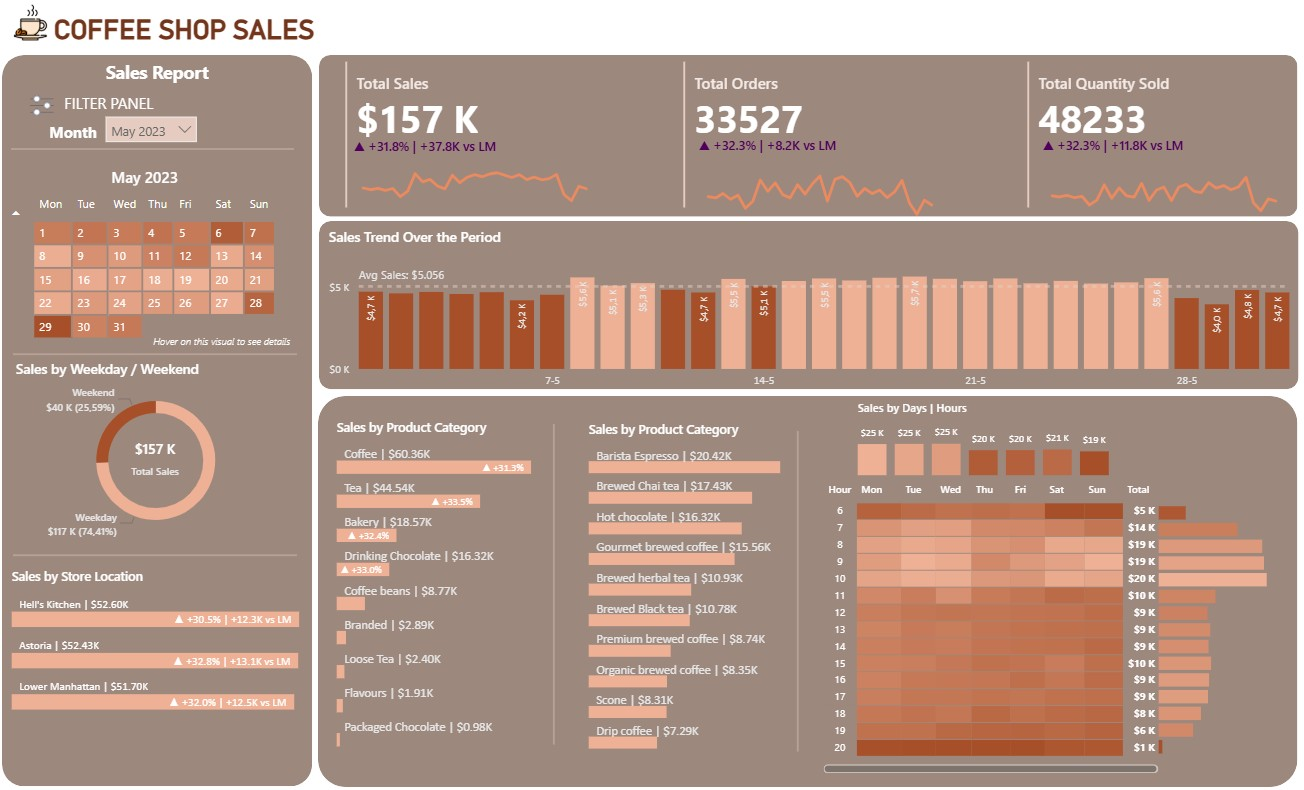

The dashboard page shown, as its layout file describes it:
{"tool":"powerbi","page":{"name":"Page 1","canvas":[1400,850],"ordinal":0},"visuals":[{"type":"shape","box":[345,421,1042,416],"z":0},{"type":"shape","box":[9,59,330,778],"z":1000},{"type":"shape","box":[346,59,1041,172],"z":2000},{"type":"textbox","box":[52.9,9.5,298.1,61.3],"z":3000},{"type":"cardVisual","title":"Total Sales","fields":{"Data":["Transactions.Total Sales"]},"box":[345.7,60.2,300,165],"z":3000,"group":"g1"},{"type":"cardVisual","title":"Total Sales","fields":{"Data":["Transactions.Total Orders"]},"box":[704.8,61,299.6,165.3],"z":3000,"group":"g2"},{"type":"cardVisual","title":"Total Sales","fields":{"Data":["Transactions.Total Quantity Sold"]},"box":[1071,61,299.6,165.3],"z":3000,"group":"g3"},{"type":"slicer","fields":{"Values":["Date Table.Month Year"]},"box":[113.3,118.9,106.7,47.8],"z":4000},{"type":"group","id":"g1","title":"Group 1","box":[345.7,60.2,299.9,175.1],"z":5000},{"type":"lineChart","fields":{"Y":["Transactions.Total Sales"],"Category":["Date Table.Date.Variation.Date Hierarchy.Year"]},"box":[377.8,145.9,267.5,89.5],"z":5000,"group":"g1"},{"type":"lineChart","fields":{"Category":["Date Table.Date.Variation.Date Hierarchy.Year"],"Y":["Transactions.Total Orders"]},"box":[743.8,146,268,89],"z":5000,"group":"g2"},{"type":"lineChart","fields":{"Category":["Date Table.Date.Variation.Date Hierarchy.Year"],"Y":["Transactions.Total Quantity Sold"]},"box":[1110,146,268,89],"z":5000,"group":"g3"},{"type":"group","id":"g2","title":"Group 1","box":[704.8,61,307,174],"z":6000},{"type":"group","id":"g3","title":"Group 1","box":[1071,61,307,174],"z":7000},{"type":"pivotTable","fields":{"Rows":["Date Table.Week Number"],"Columns":["Date Table.Day Name"],"Values":["Min(Date Table.Day Number)"]},"box":[14,200,316,190],"z":8000},{"type":"card","fields":{"Values":["Min(Date Table.Month Year)"]},"box":[108.6,175,103.6,25.5],"z":9000},{"type":"card","fields":{"Values":["Transactions.Foot Note"]},"box":[148.6,348.6,186.4,34.5],"z":10000},{"type":"shape","box":[20,364,302,26],"z":11000},{"type":"shape","box":[17.8,145.6,301.1,25.6],"z":12000},{"type":"donutChart","title":"Sales by Weekday / Weekend","fields":{"Category":["Date Table.Weekday / Weekend"],"Y":["Transactions.Total Sales"]},"box":[18,382,308,196],"z":13000},{"type":"card","fields":{"Values":["Transactions.Total Sales"]},"box":[95.1,448.3,153.3,78.2],"z":14000},{"type":"shape","box":[20,578,302,26],"z":15000},{"type":"clusteredBarChart","title":"Sales by Store Location","fields":{"Category":["Transactions.store_location"],"Y":["Transactions.Placeholder","Transactions.Total Sales"]},"box":[14,604,346,158],"z":16000},{"type":"shape","box":[346,235,1042,179],"z":17000},{"type":"columnChart","title":"Sales Trend Over the Period","fields":{"Category":["Transactions.transaction_date"],"Y":["Transactions.Total Sales"]},"box":[351,242,1032,179],"z":18000},{"type":"clusteredBarChart","title":"Sales by Product Category","fields":{"Y":["Transactions.Placeholder","Transactions.Total Sales"],"Category":["Transactions.product_category"]},"box":[360,446,250,354],"z":19000},{"type":"shape","box":[570.9,451.4,48.6,341.5],"z":19001},{"type":"clusteredBarChart","title":"Sales by Product Category","fields":{"Y":["Transactions.Placeholder","Transactions.Total Sales"],"Category":["Transactions.product_type"]},"box":[628,448,250,354],"z":19002},{"type":"shape","box":[818,458,74,341],"z":19003},{"type":"pivotTable","fields":{"Rows":["Transactions.Hour"],"Columns":["Date Table.Day Name"],"Values":["Transactions.Total Sales"]},"box":[878,507,366,320],"z":19004},{"type":"barChart","fields":{"Category":["Transactions.Hour"],"Y":["Transactions.Total Sales"]},"box":[1234,526,127,281],"z":19005},{"type":"columnChart","title":"Sales by Days | Hours","fields":{"Y":["Transactions.Total Sales"],"Category":["Date Table.Day Name"]},"box":[914,425,278,86],"z":19006},{"type":"textbox","box":[33.3,124.4,102.2,32.2],"z":19007},{"type":"textbox","box":[8.9,58.9,330,47.8],"z":19008},{"type":"textbox","box":[50,93.3,144.4,47.8],"z":19009},{"type":"image","box":[33.3,93.3,35.6,38.9],"z":19010},{"type":"image","box":[13.7,0,50.7,47.6],"z":19011}]}

Visuals, with their boxes in screenshot pixels (x1, y1, x2, y2), scaled from the page's 1400x850 canvas onto the 1304x790 screenshot:
shape: bbox=[321, 391, 1292, 778]
shape: bbox=[8, 55, 316, 778]
shape: bbox=[322, 55, 1292, 215]
textbox: bbox=[49, 9, 327, 66]
"Total Sales" cardVisual: bbox=[322, 56, 601, 209]
"Total Sales" cardVisual: bbox=[656, 57, 936, 210]
"Total Sales" cardVisual: bbox=[998, 57, 1277, 210]
slicer - Date Table.Month Year: bbox=[106, 111, 205, 155]
"Group 1" group: bbox=[322, 56, 601, 219]
lineChart - Transactions.Total Sales x Date Table.Date.Variation.Date Hierarchy.Year: bbox=[352, 136, 601, 219]
lineChart - Date Table.Date.Variation.Date Hierarchy.Year x Transactions.Total Orders: bbox=[693, 136, 942, 218]
lineChart - Date Table.Date.Variation.Date Hierarchy.Year x Transactions.Total Quantity Sold: bbox=[1034, 136, 1284, 218]
"Group 1" group: bbox=[656, 57, 942, 218]
"Group 1" group: bbox=[998, 57, 1284, 218]
pivotTable - Date Table.Week Number x Date Table.Day Name: bbox=[13, 186, 307, 362]
card - Min(Date Table.Month Year): bbox=[101, 163, 198, 186]
card - Transactions.Foot Note: bbox=[138, 324, 312, 356]
shape: bbox=[19, 338, 300, 362]
shape: bbox=[17, 135, 297, 159]
"Sales by Weekday / Weekend" donutChart: bbox=[17, 355, 304, 537]
card - Transactions.Total Sales: bbox=[89, 417, 231, 489]
shape: bbox=[19, 537, 300, 561]
"Sales by Store Location" clusteredBarChart: bbox=[13, 561, 335, 708]
shape: bbox=[322, 218, 1293, 385]
"Sales Trend Over the Period" columnChart: bbox=[327, 225, 1288, 391]
"Sales by Product Category" clusteredBarChart: bbox=[335, 415, 568, 744]
shape: bbox=[532, 420, 577, 737]
"Sales by Product Category" clusteredBarChart: bbox=[585, 416, 818, 745]
shape: bbox=[762, 426, 831, 743]
pivotTable - Transactions.Hour x Date Table.Day Name: bbox=[818, 471, 1159, 769]
barChart - Transactions.Hour x Transactions.Total Sales: bbox=[1149, 489, 1268, 750]
"Sales by Days | Hours" columnChart: bbox=[851, 395, 1110, 475]
textbox: bbox=[31, 116, 126, 146]
textbox: bbox=[8, 55, 316, 99]
textbox: bbox=[47, 87, 181, 131]
image: bbox=[31, 87, 64, 123]
image: bbox=[13, 0, 60, 44]
